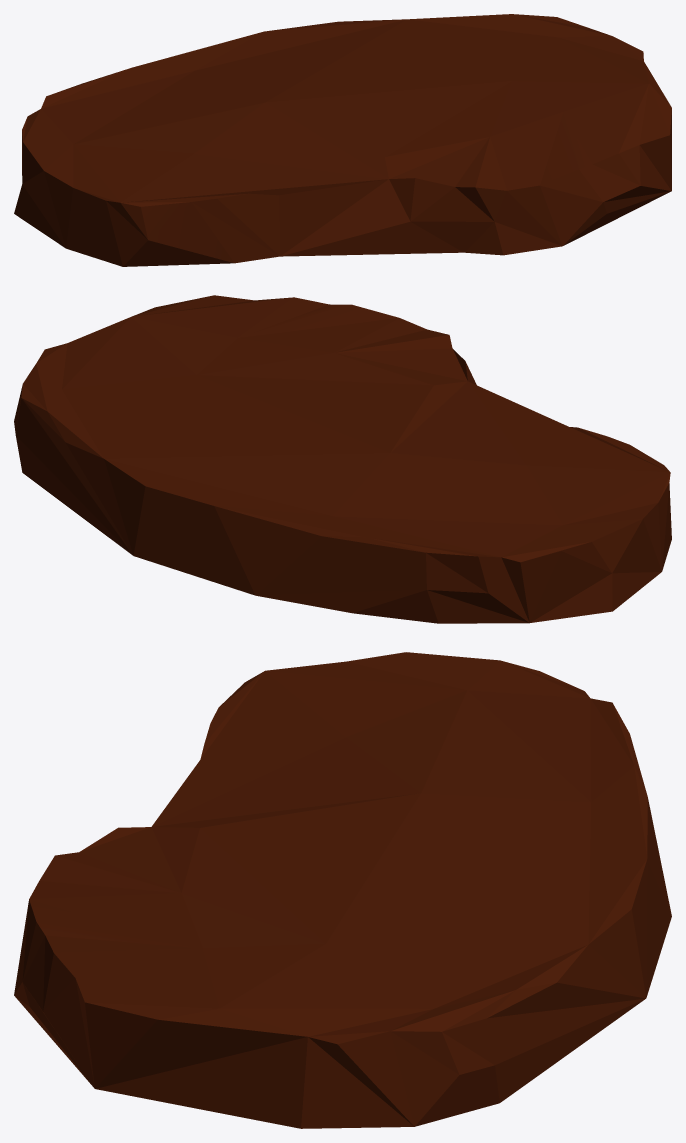
The model's file is ElevatedGround_6.fbx.
3 views of the same model, one above another, from view 1: azimuth 30°, elevation 25°; view 2: azimuth 150°, elevation 25°; view 3: azimuth 270°, elevation 25° (orthographic). The views are drawn at different scales.
Parts seen in each view (by area): view 1: ElevatedGround_6; view 2: ElevatedGround_6; view 3: ElevatedGround_6.
Boxes of the visible parts, box(x1,y1,x2,y2) form: ElevatedGround_6: box(14, 14, 671, 266); ElevatedGround_6: box(14, 295, 671, 623); ElevatedGround_6: box(14, 652, 671, 1128).
Size of the model in its own units: 2087 by 252 by 1492.
